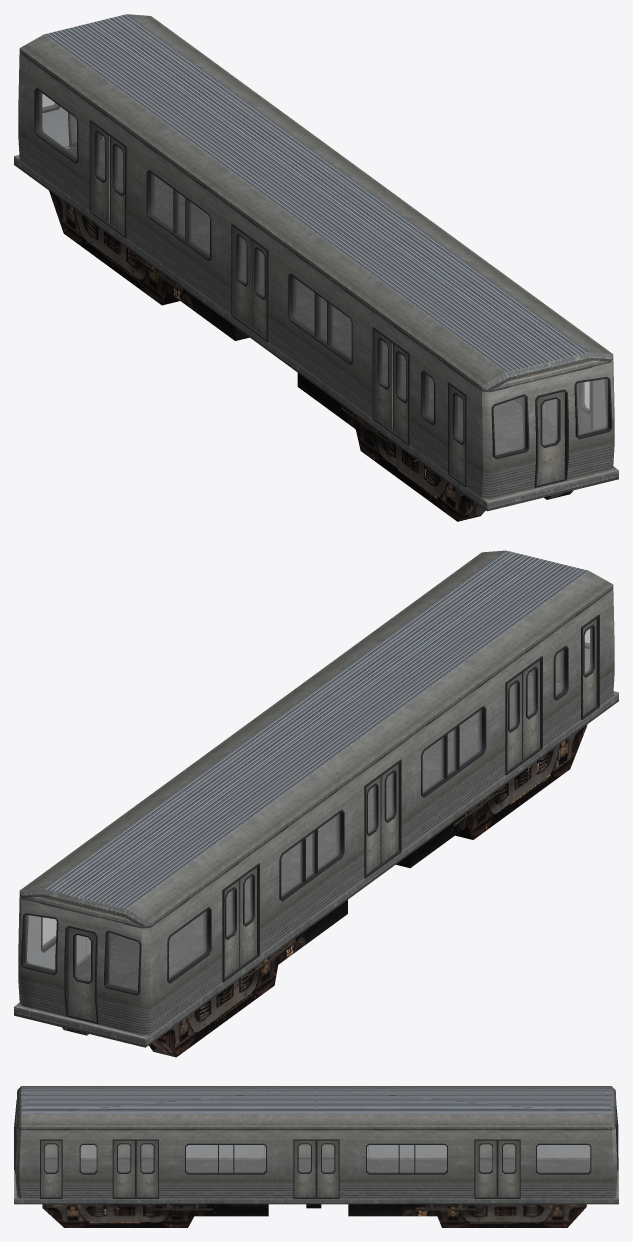
Rendered from traincarfrompacknotop.glb.
3 renders of one model, top to bottom at view 1: azimuth 30°, elevation 25°; view 2: azimuth 150°, elevation 25°; view 3: azimuth 270°, elevation 25°, orthographic. The views are drawn at different scales.
Visible parts, largest first — view 1: subway_car, Door.015, Glass.003, Glass.002, Door, Door.004, Door.002, Glass.001, Glass.009, Glass.008, Door.003, Door.001 (+3 smaller); view 2: subway_car, Door.014, Glass.002, Glass.003, Door.003, Door.001, Door.005, Glass.001, Glass.011, Glass.010, Door.004, Door (+2 smaller); view 3: subway_car, Glass.006, Glass.007, Glass.005, Door.007, Door.009, Door.006, Door.008, Door.011, Door.010, Door.013, Glass.012.
Part boxes in pixels (x1,y1,x2,y2): subway_car: [14, 14, 618, 521]; Door.015: [536, 391, 564, 485]; Glass.003: [293, 277, 351, 360]; Glass.002: [151, 173, 209, 256]; Door: [92, 124, 110, 222]; Door.004: [375, 331, 393, 430]; Door.002: [234, 227, 251, 326]; Glass.001: [39, 91, 76, 159]; Glass.009: [493, 396, 524, 455]; Glass.008: [576, 379, 607, 434]; Door.003: [252, 240, 266, 337]; Door.001: [110, 137, 124, 234]; subway_car: [14, 550, 618, 1057]; Door.014: [68, 927, 96, 1021]; Glass.002: [281, 814, 339, 896]; Glass.003: [423, 710, 481, 793]; Door.003: [380, 764, 398, 862]; Door.001: [239, 867, 256, 966]; Door.005: [522, 660, 539, 759]; Glass.001: [169, 911, 206, 978]; Glass.011: [108, 932, 139, 990]; Glass.010: [25, 915, 56, 970]; Door.004: [507, 673, 522, 770]; Door: [224, 880, 238, 977]; subway_car: [14, 1086, 618, 1227]; Glass.006: [367, 1145, 446, 1172]; Glass.007: [186, 1145, 265, 1172]; Glass.005: [537, 1145, 589, 1172]; Door.007: [475, 1140, 497, 1197]; Door.009: [294, 1140, 316, 1197]; Door.006: [497, 1140, 519, 1197]; Door.008: [316, 1140, 338, 1197]; Door.011: [113, 1140, 135, 1197]; Door.010: [136, 1140, 157, 1197]; Door.013: [41, 1140, 61, 1197]; Glass.012: [81, 1145, 96, 1172].
Size of the model in its own units: 3.83 by 4.64 by 23.39.
9 materials, 8 textured.
